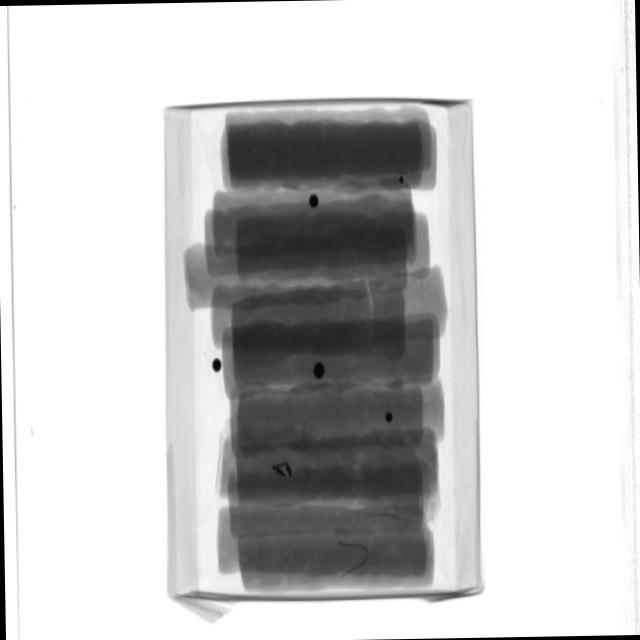ym: (341, 541, 370, 578), (313, 361, 327, 381), (274, 464, 293, 477), (310, 193, 320, 208), (214, 359, 223, 373), (386, 413, 394, 423), (398, 177, 405, 185)
